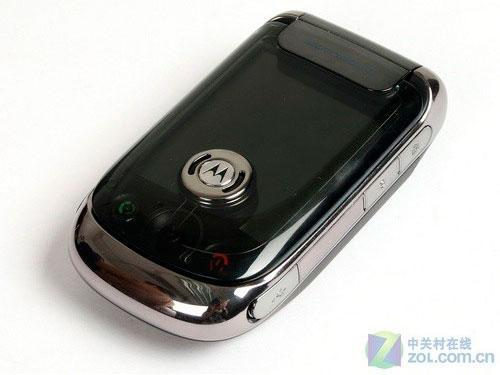phone: (69, 14, 443, 337)
